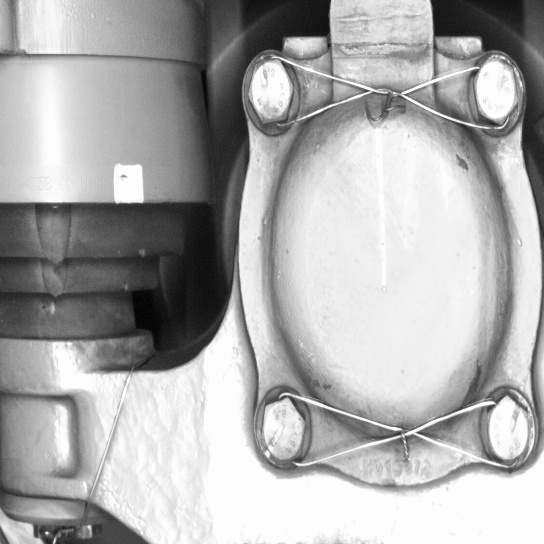IronWire: (248, 375, 541, 473), (236, 42, 526, 131)
Screw: (237, 43, 307, 134), (249, 386, 315, 476), (459, 45, 528, 130), (477, 377, 539, 471)
